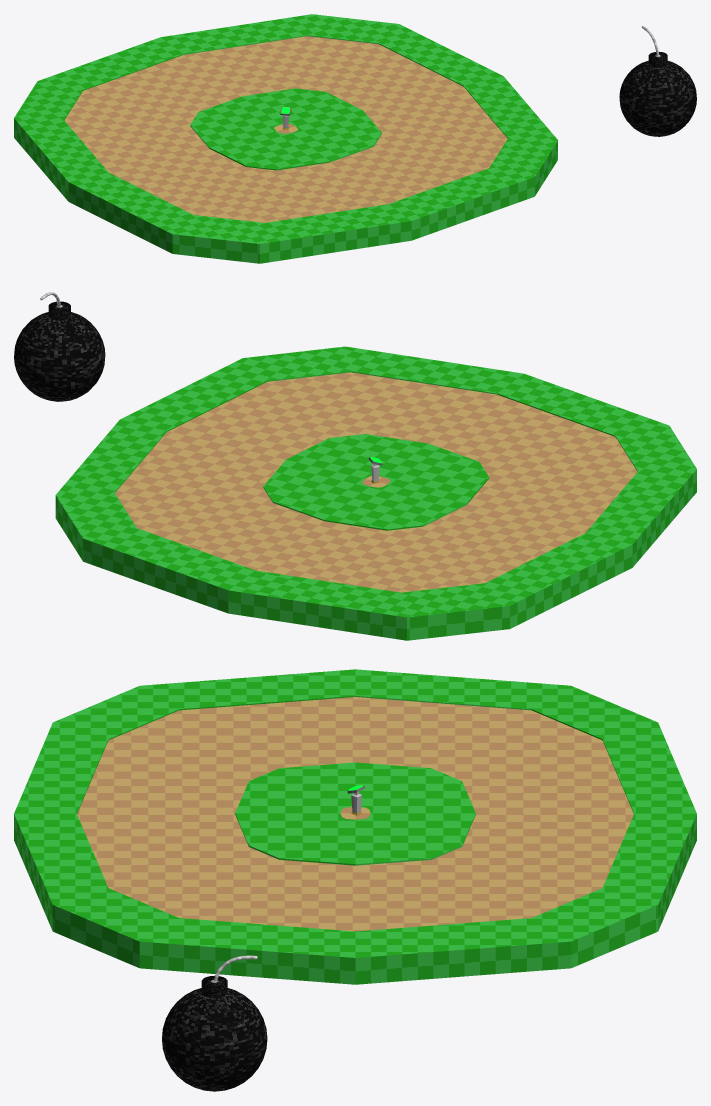
The model's file is map.glb.
3 views of the same model, one above another, from view 1: azimuth 30°, elevation 25°; view 2: azimuth 150°, elevation 25°; view 3: azimuth 270°, elevation 25° (orthographic). The views are drawn at different scales.
Visible parts, largest first — view 1: Cube.001, Cube, Cube.002, Bomb; view 2: Cube.001, Cube, Cube.002, Bomb; view 3: Cube.001, Cube, Cube.002, Bomb.
Part boxes in pixels (left/top/right/bottom): Cube.001: left=64, top=36, right=507, bottom=222; Cube: left=14, top=14, right=557, bottom=263; Cube.002: left=190, top=88, right=381, bottom=170; Bomb: left=619, top=26, right=696, bottom=136; Cube.001: left=115, top=372, right=637, bottom=592; Cube: left=55, top=346, right=696, bottom=640; Cube.002: left=263, top=434, right=489, bottom=530; Bomb: left=14, top=292, right=105, bottom=401; Cube.001: left=77, top=697, right=633, bottom=931; Cube: left=14, top=669, right=696, bottom=984; Cube.002: left=235, top=762, right=475, bottom=865; Bomb: left=162, top=955, right=267, bottom=1091.
Size of the model in its own units: 51.71 by 8.33 by 39.35.
8 materials, 5 textured.
